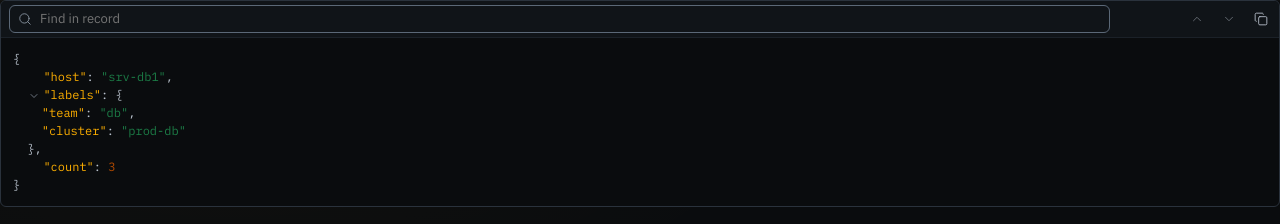
Scenario: JsonViewer › search › searches inside a collapsed key
The image size is (1280, 224).
Click the button named "toggle labels" at (34, 96), box [27,89,41,103]
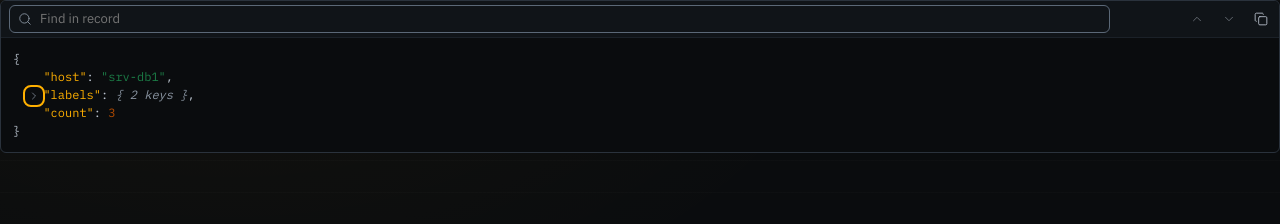
Result: the text "prod-" is gone
Type "prod" into the search field labelled "Find in record" at (571, 19), box [32,9,1109,29]
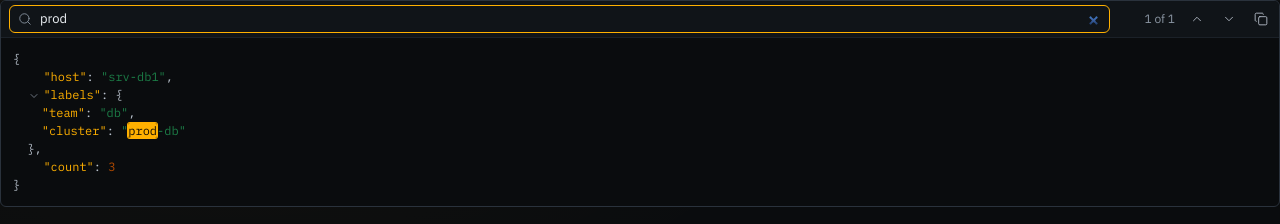
Result: the text "prod" is shown at [128,123,157,138]
